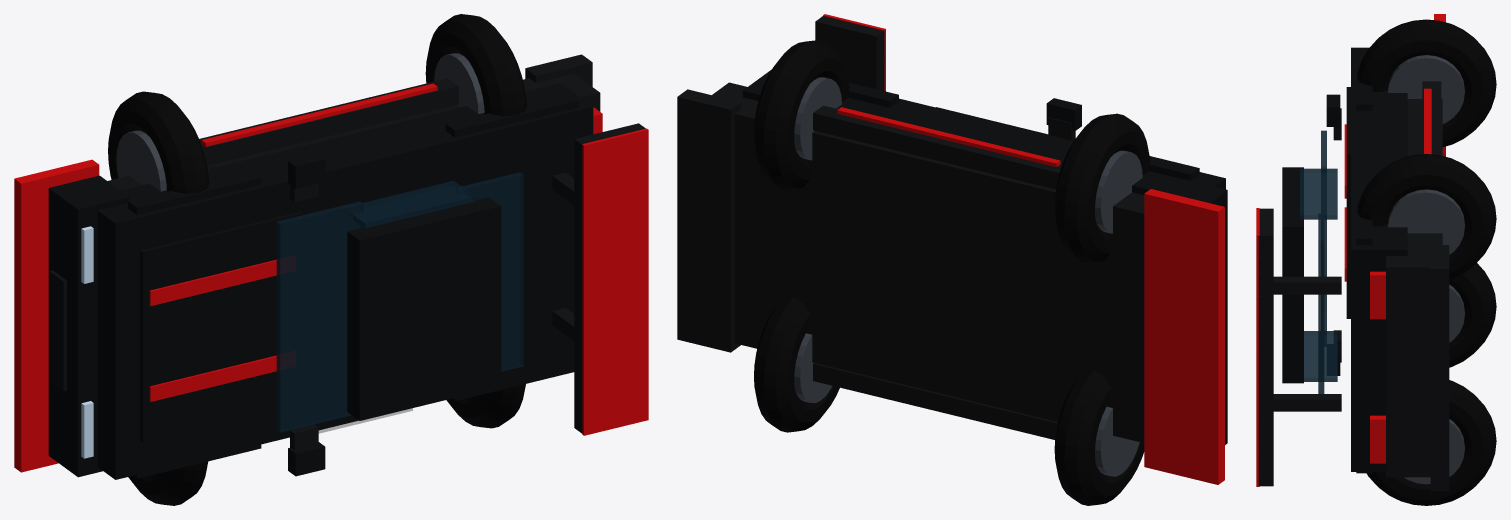
The model's file is carro_corrida_23.obj.
3 views of the same model, side by side, from view 1: azimuth 30°, elevation 25°; view 2: azimuth 150°, elevation 25°; view 3: azimuth 270°, elevation 25° (orthographic). The views are drawn at different scales.
Parts seen in each view (by area): view 1: Main_body, Roof, Hood, Wing_red_edge, Windshield, Performance_tire, Front_bumper, Front_splitter, Side_skirt, Rear_window, Fender_flare, Hood_stripe (+11 smaller); view 2: Chassis, Performance_tire, Front_splitter, Rear_diffuser, Side_skirt, Wheel_rim, Main_body, Rear_wing, Side_red_accent, Front_bumper, Fender_flare, Mirror; view 3: Performance_tire, Main_body, Chassis, Wheel_rim, Rear_diffuser, Rear_wing, Roof, Side_window, Wing_support, Taillight, Fender_flare, Hood (+8 smaller).
Part boxes in pixels (x1,y1,x2,y2): Main_body: (97, 83, 593, 479); Roof: (347, 197, 501, 420); Hood: (140, 212, 301, 442); Wing_red_edge: (582, 128, 648, 435); Windshield: (276, 201, 363, 432); Performance_tire: (108, 14, 526, 505); Front_bumper: (48, 175, 129, 477); Front_splitter: (14, 159, 99, 472); Side_skirt: (199, 78, 458, 165); Rear_window: (456, 172, 523, 371); Fender_flare: (128, 93, 578, 478); Hood_stripe: (149, 259, 276, 401); Chassis: (712, 82, 1144, 442); Performance_tire: (754, 40, 1150, 505); Front_splitter: (1144, 189, 1224, 484); Rear_diffuser: (677, 89, 740, 352); Side_skirt: (813, 105, 1062, 439); Wheel_rim: (794, 77, 1142, 476); Main_body: (742, 69, 1225, 194); Rear_wing: (815, 16, 884, 90); Side_red_accent: (837, 107, 1060, 166); Front_bumper: (1161, 178, 1227, 444); Fender_flare: (848, 82, 1199, 180); Mirror: (1046, 98, 1081, 131); Performance_tire: (1357, 19, 1496, 505); Main_body: (1351, 47, 1407, 471); Chassis: (1386, 99, 1442, 477); Wheel_rim: (1388, 55, 1464, 484); Rear_diffuser: (1430, 245, 1449, 491); Rear_wing: (1258, 208, 1273, 486); Roof: (1282, 167, 1303, 383); Side_window: (1300, 168, 1337, 381); Wing_support: (1273, 276, 1341, 411); Taillight: (1370, 271, 1385, 463); Fender_flare: (1356, 52, 1372, 473); Hood: (1346, 87, 1350, 318).
Size of the model in its own units: 4.23 by 2.86 by 1.78.
